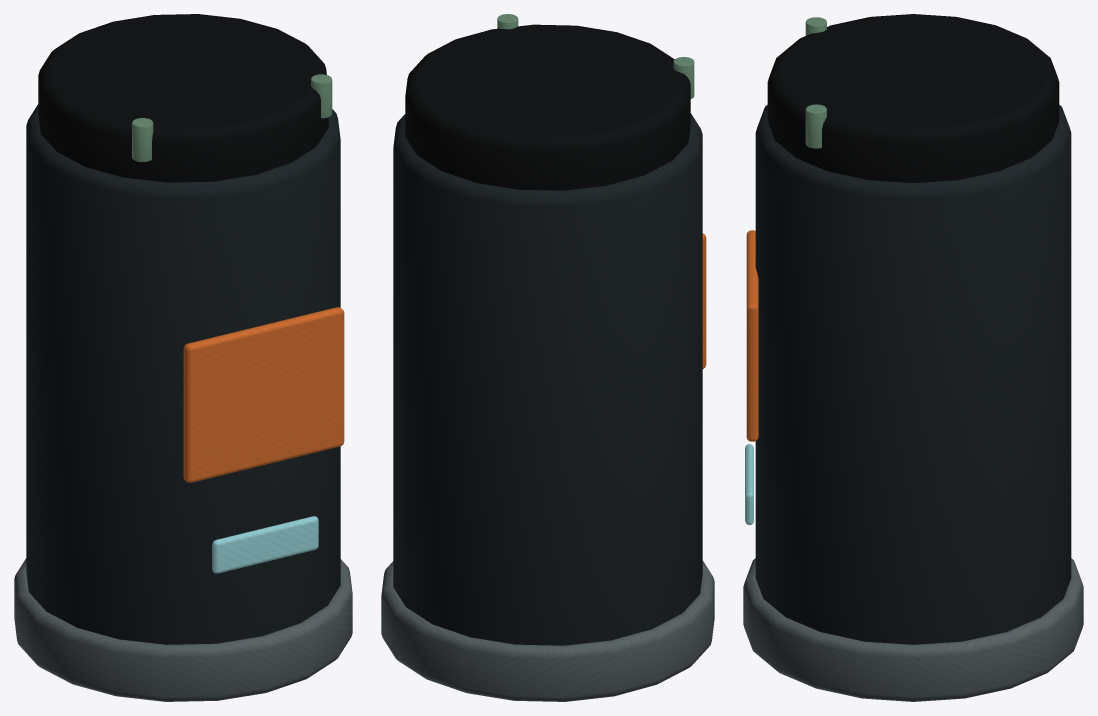
File: DecontaminationCanister.glb
3 renders of one model, left to right at view 1: azimuth 30°, elevation 25°; view 2: azimuth 150°, elevation 25°; view 3: azimuth 270°, elevation 25°, orthographic.
Parts seen in each view (by area): view 1: DecontaminationCanister_Mesh; view 2: DecontaminationCanister_Mesh; view 3: DecontaminationCanister_Mesh.
Part boxes in pixels (box(x1,y1,x2,y2)): DecontaminationCanister_Mesh: box(14, 14, 352, 701); DecontaminationCanister_Mesh: box(381, 14, 714, 701); DecontaminationCanister_Mesh: box(743, 14, 1083, 701).
Size of the model in its own units: 0.56 by 1.03 by 0.56.
6 materials, 6 textured.
